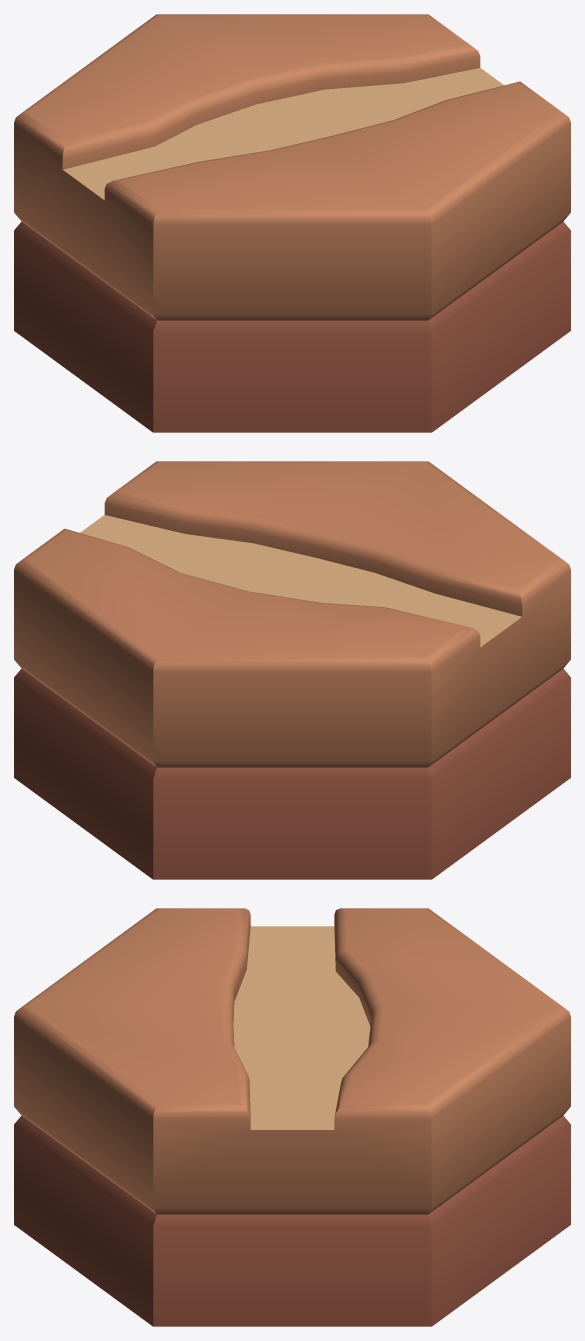
Rendered from hex_rock_roadB_detail.glb.
The picture shows the model from 3 angles, top to bottom: view 1: azimuth 30°, elevation 25°; view 2: azimuth 150°, elevation 25°; view 3: azimuth 270°, elevation 25°; orthographic projection.
Visible parts, largest first — view 1: hex_rock_roadB_detail; view 2: hex_rock_roadB_detail; view 3: hex_rock_roadB_detail.
Boxes of the visible parts, bbox=[...] form: hex_rock_roadB_detail: bbox=[14, 14, 570, 432]; hex_rock_roadB_detail: bbox=[14, 461, 570, 879]; hex_rock_roadB_detail: bbox=[14, 908, 570, 1326].
Size of the model in its own units: 2 by 1 by 2.31.
